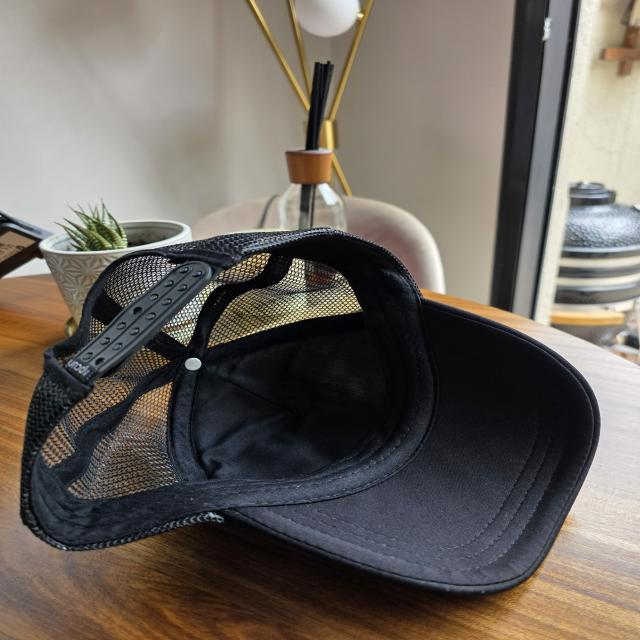Gorra: (25, 236, 610, 597)
